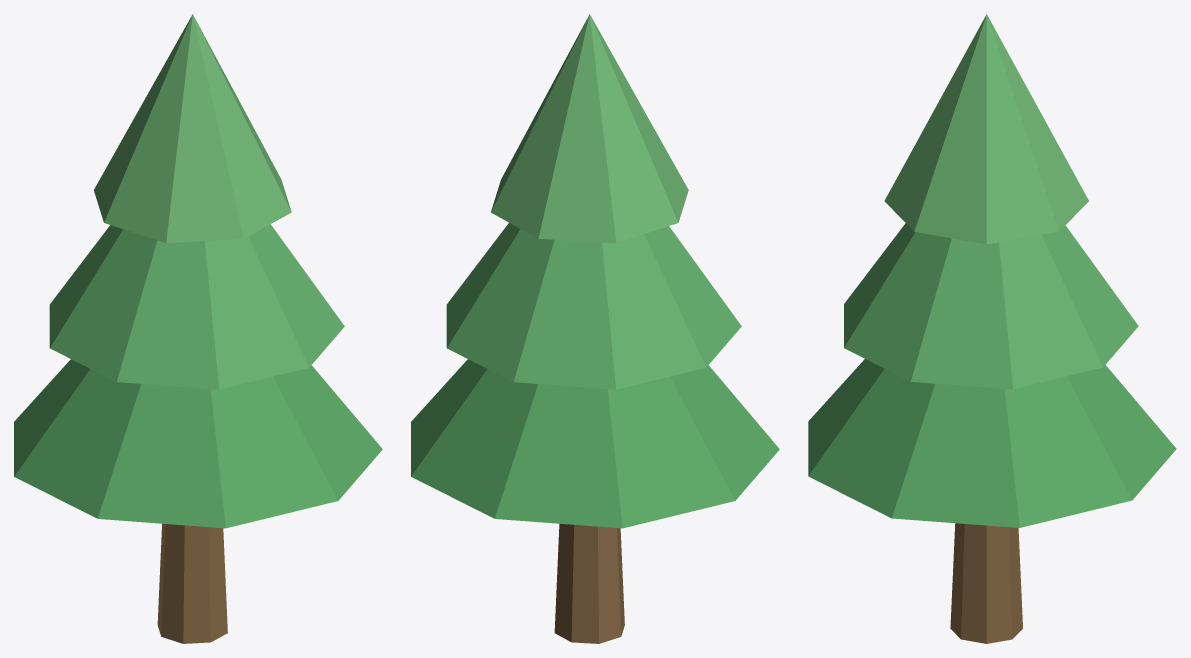
The model's file is tree.glb.
3 views of the same model, side by side, from view 1: azimuth 30°, elevation 25°; view 2: azimuth 150°, elevation 25°; view 3: azimuth 270°, elevation 25° (orthographic).
Visible parts, largest first — view 1: TreeFoliageA, TreeFoliageB, TreeFoliageC, TreeTrunk; view 2: TreeFoliageA, TreeFoliageB, TreeFoliageC, TreeTrunk; view 3: TreeFoliageA, TreeFoliageB, TreeFoliageC, TreeTrunk.
Part boxes in pixels (x1,y1,x2,y2): TreeFoliageA: (14, 359, 382, 528); TreeFoliageB: (49, 224, 344, 389); TreeFoliageC: (94, 14, 291, 242); TreeTrunk: (157, 523, 227, 643); TreeFoliageA: (411, 359, 779, 528); TreeFoliageB: (446, 223, 741, 389); TreeFoliageC: (491, 14, 688, 242); TreeTrunk: (554, 523, 624, 643); TreeFoliageA: (808, 359, 1176, 527); TreeFoliageB: (844, 223, 1138, 389); TreeFoliageC: (884, 14, 1088, 244); TreeTrunk: (950, 523, 1022, 643).
Bounding box in the file's own units: 2.27 × 4.11 × 2.23.
